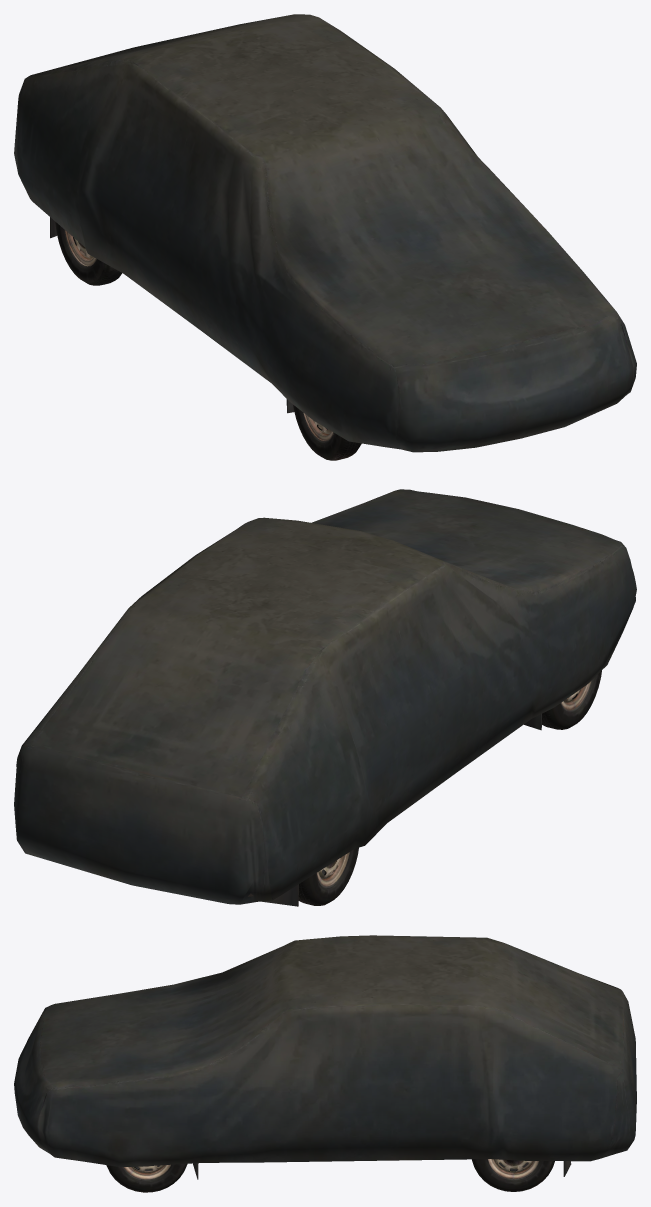
The model's file is covered_car.glb.
3 renders of one model, top to bottom at view 1: azimuth 30°, elevation 25°; view 2: azimuth 150°, elevation 25°; view 3: azimuth 270°, elevation 25°, orthographic. The views are drawn at different scales.
Visible parts, largest first — view 1: covered_car, covered_car_wheel_03, covered_car_wheel_02; view 2: covered_car, covered_car_wheel_03, covered_car_wheel_02; view 3: covered_car, covered_car_wheel_04, covered_car_wheel_01.
Boxes of the visible parts, left/top/right/bottom form: covered_car: left=14, top=14, right=636, bottom=452; covered_car_wheel_03: left=55, top=222, right=121, bottom=285; covered_car_wheel_02: left=293, top=405, right=361, bottom=460; covered_car: left=14, top=489, right=636, bottom=906; covered_car_wheel_03: left=298, top=847, right=358, bottom=905; covered_car_wheel_02: left=542, top=670, right=601, bottom=729; covered_car: left=14, top=935, right=636, bottom=1179; covered_car_wheel_04: left=472, top=1159, right=554, bottom=1191; covered_car_wheel_01: left=106, top=1163, right=187, bottom=1192.
Size of the model in its own units: 1.79 by 1.41 by 4.38.
1 material, 1 textured.
